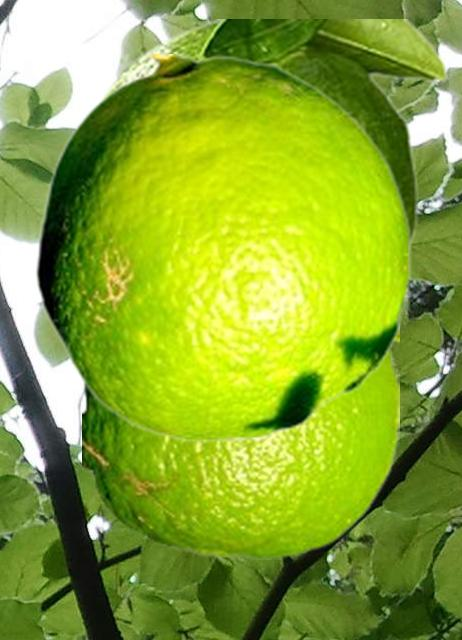dalandan: (35, 54, 411, 442), (92, 19, 448, 260), (82, 337, 398, 558)
